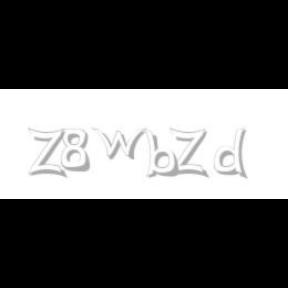8: (61, 128, 90, 172)
Z: (29, 128, 66, 178), (170, 128, 206, 178)
b: (144, 128, 182, 178)
d: (215, 128, 252, 180)
w: (92, 128, 150, 160)
